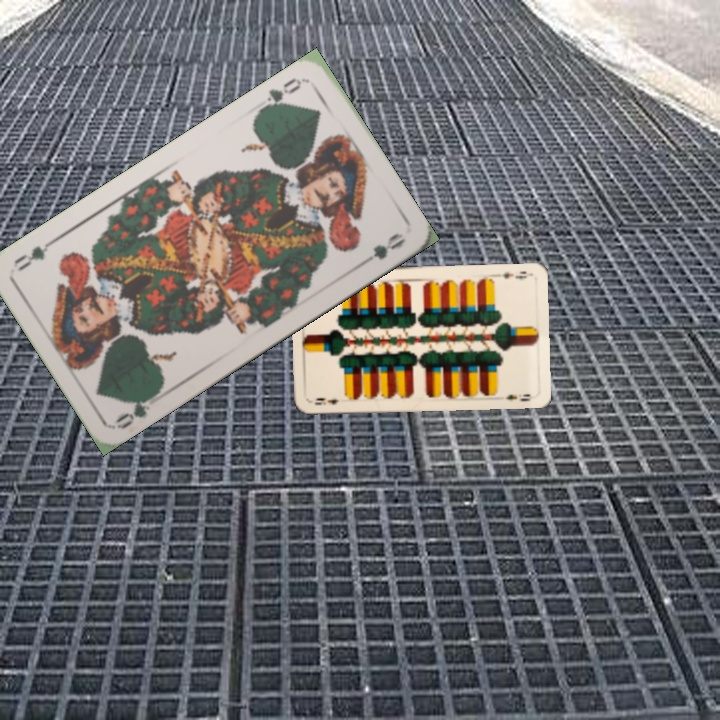E9: (492, 267, 530, 281), (311, 393, 341, 407)
GO: (111, 388, 162, 432), (255, 73, 307, 113)
